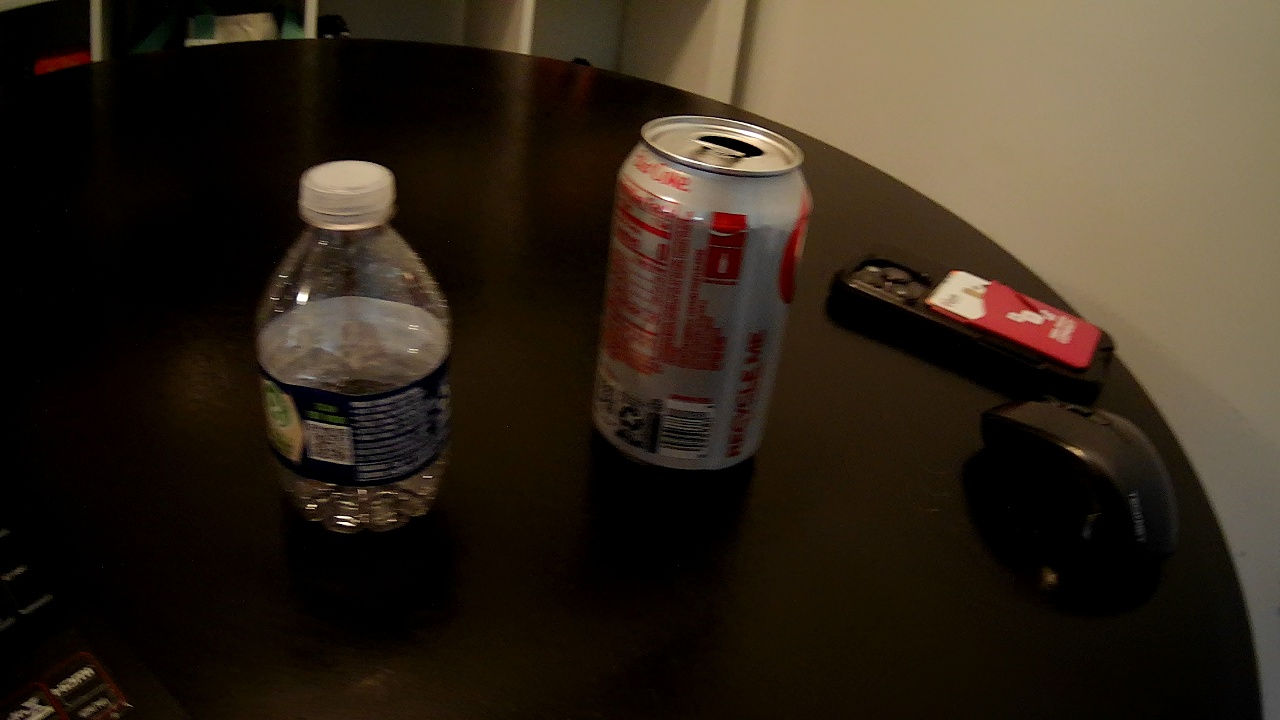recycling: (205, 165, 511, 538), (563, 78, 811, 497)
